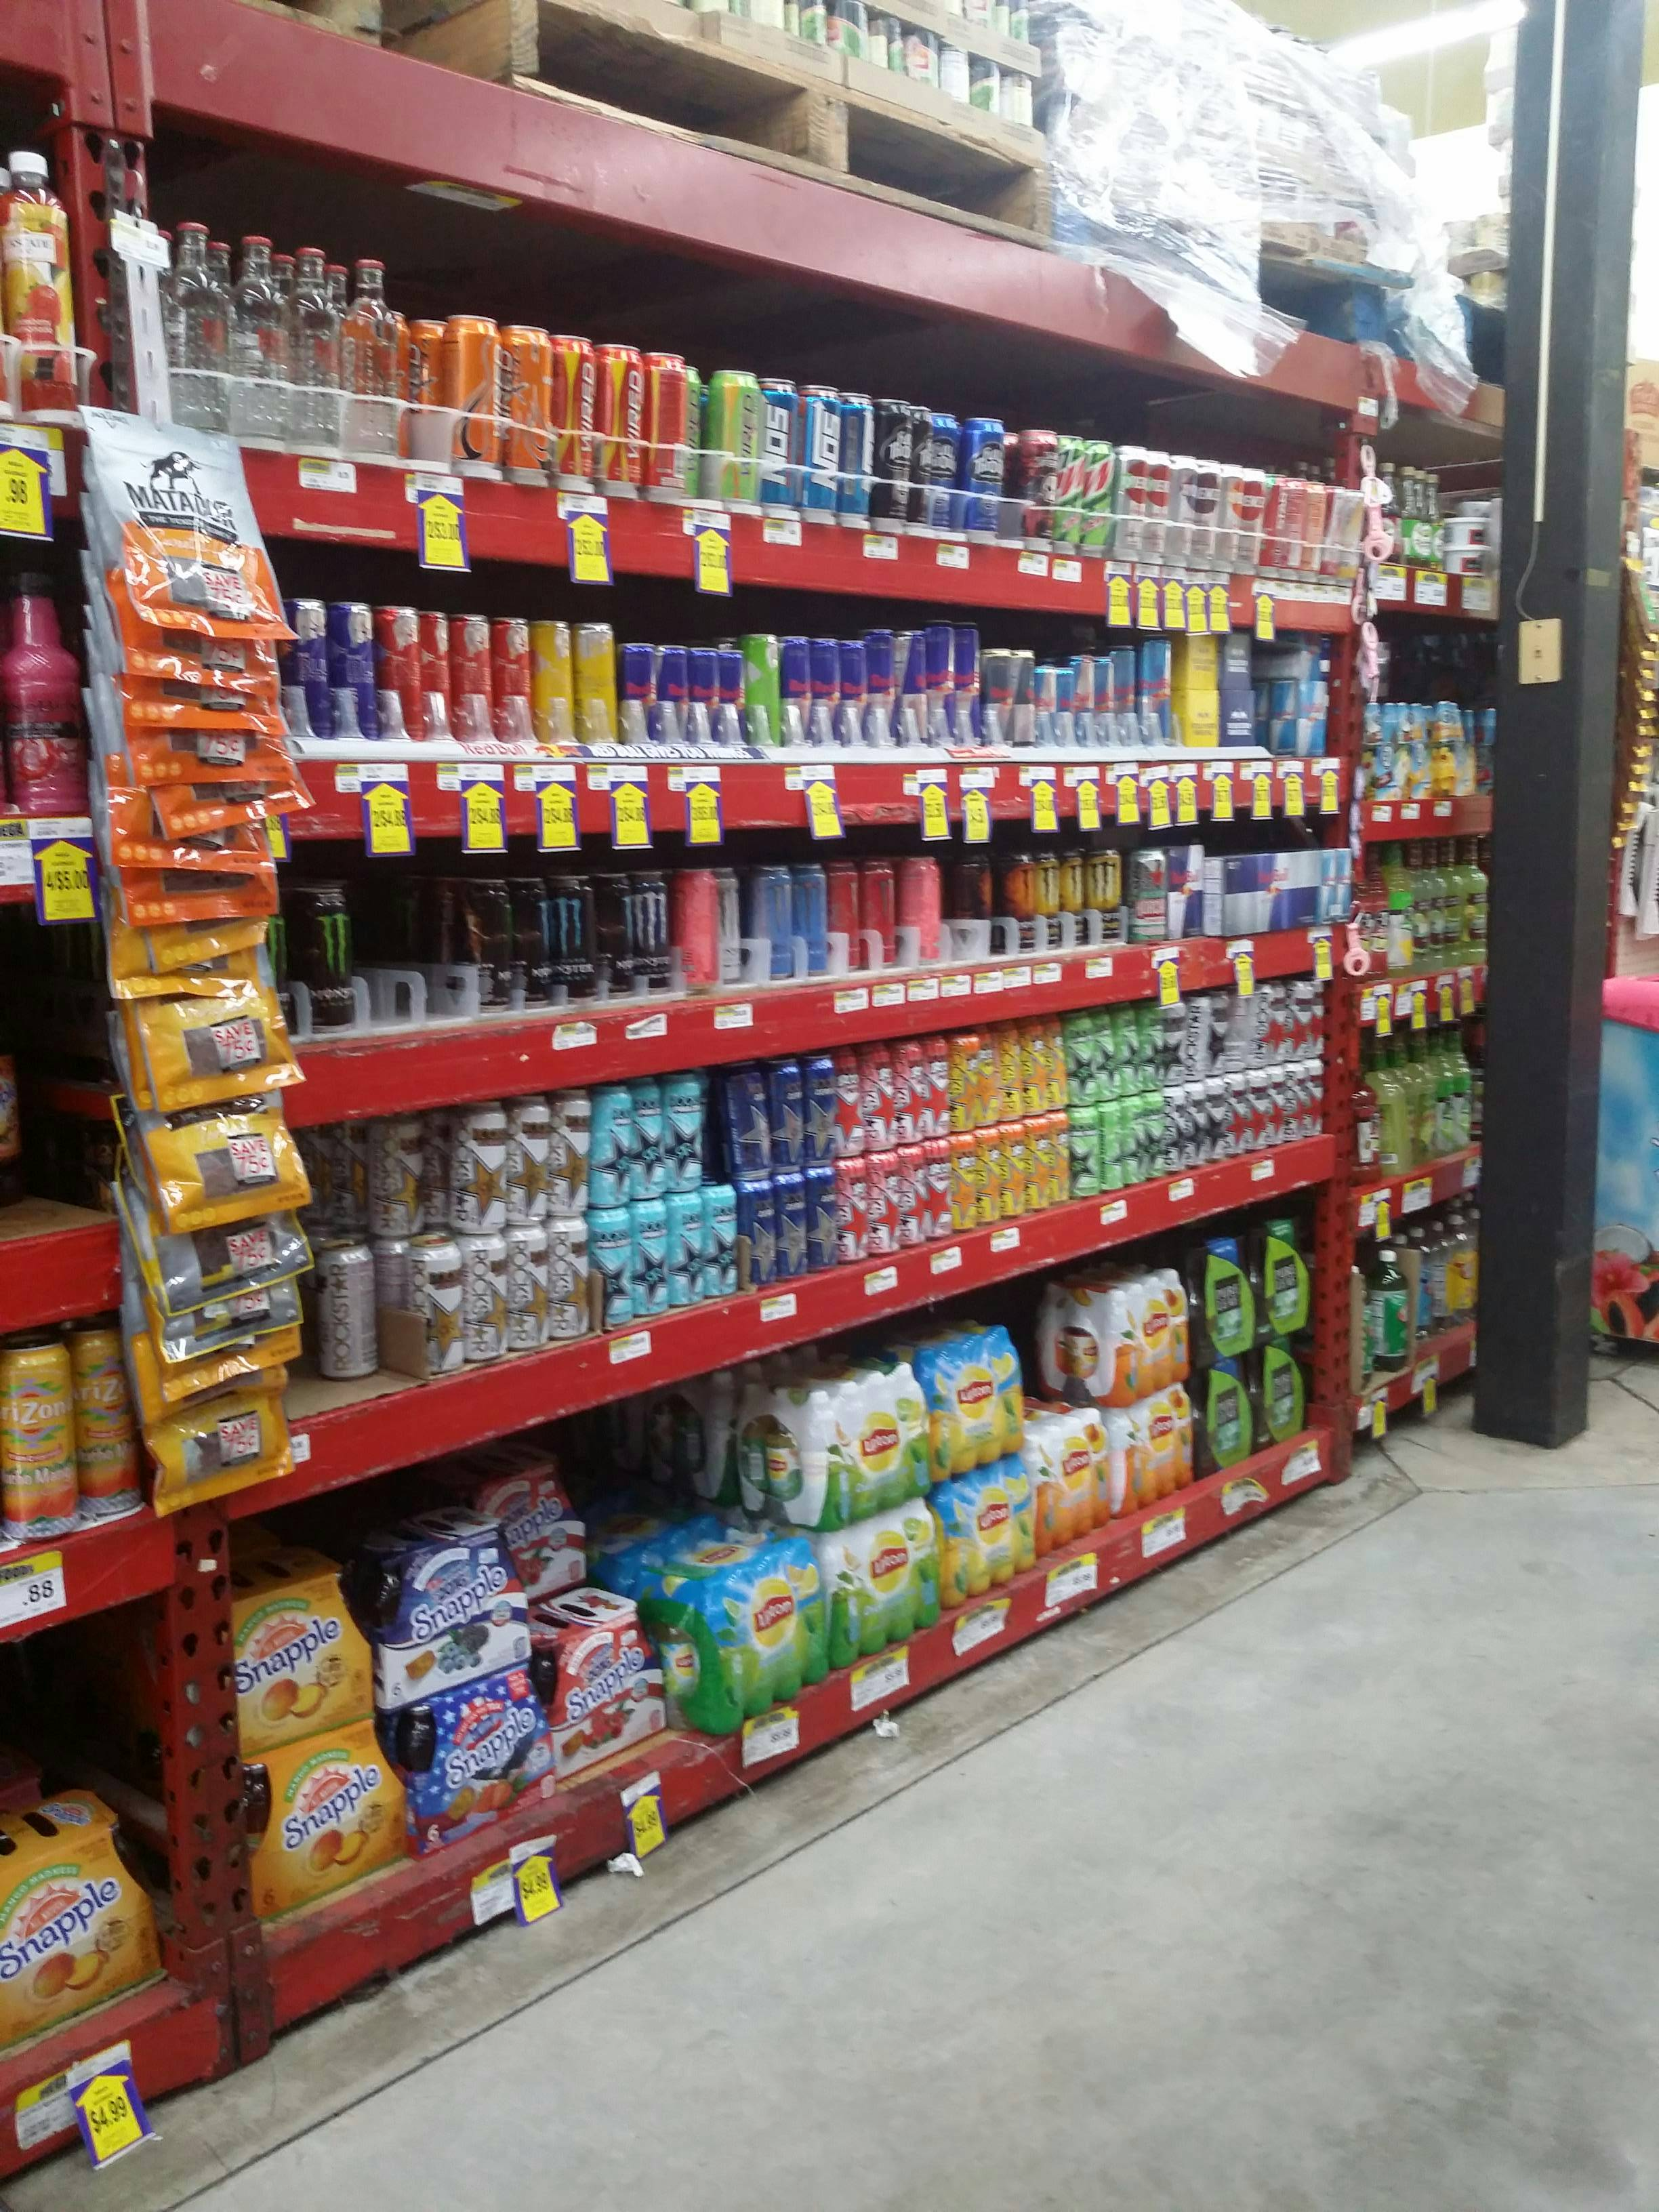Misplacement: (624, 1381, 828, 1730), (307, 1104, 460, 1425), (1012, 1284, 1115, 1557)
